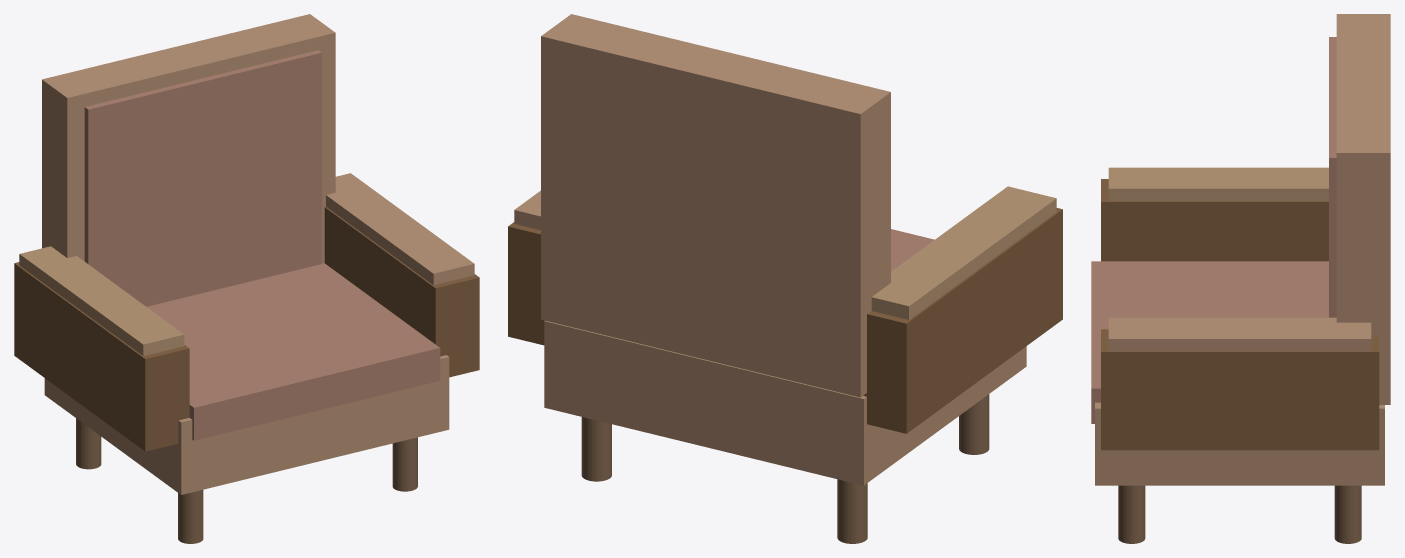
3 views of the same model, side by side, from view 1: azimuth 30°, elevation 25°; view 2: azimuth 150°, elevation 25°; view 3: azimuth 270°, elevation 25° (orthographic). The views are drawn at different scales.
Parts seen in each view (by area): view 1: Cube; view 2: Cube; view 3: Cube.
Part boxes in pixels (bbox=[...]): Cube: bbox=[14, 14, 479, 543]; Cube: bbox=[508, 14, 1062, 543]; Cube: bbox=[1091, 14, 1390, 543].
Size of the model in its own units: 0.159 by 0.171 by 0.1162.
